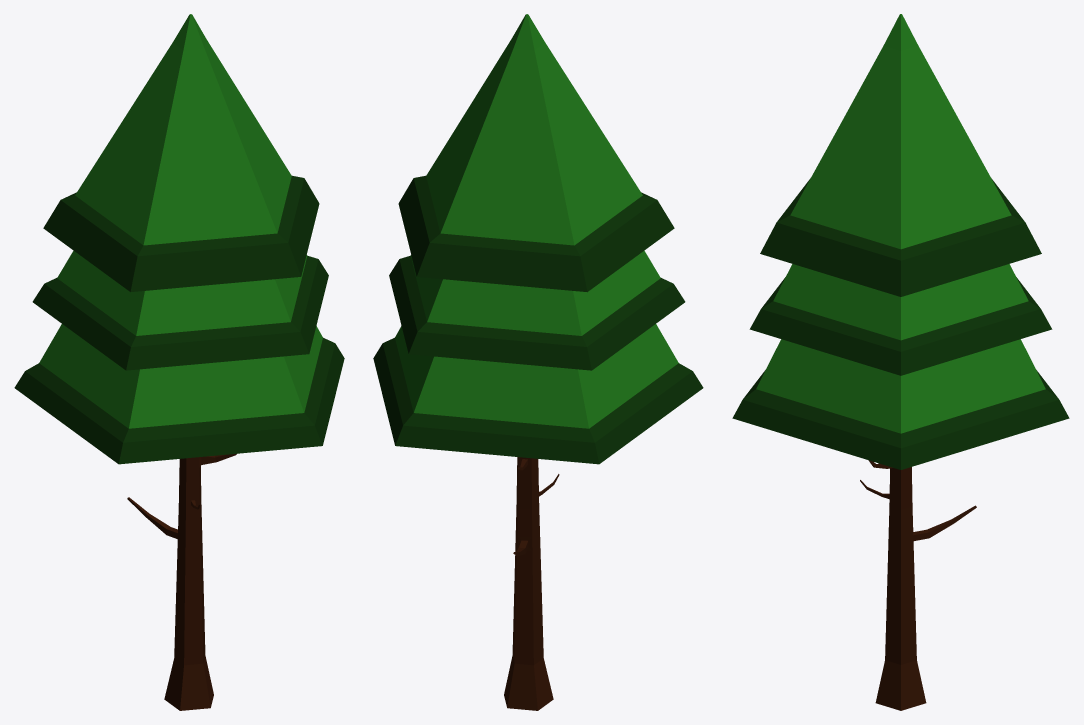
File: pinheirocomtronco.FBX
3 views of the same model, side by side, from view 1: azimuth 30°, elevation 25°; view 2: azimuth 150°, elevation 25°; view 3: azimuth 270°, elevation 25° (orthographic).
Parts seen in each view (by area): view 1: Cone002; view 2: Cone002; view 3: Cone002.
Boxes of the visible parts, x1,y1,x2,y2 form: Cone002: (14, 14, 344, 710); Cone002: (373, 14, 703, 710); Cone002: (732, 14, 1069, 710).
Bounding box in the file's own units: 2379 × 5607 × 2501.
